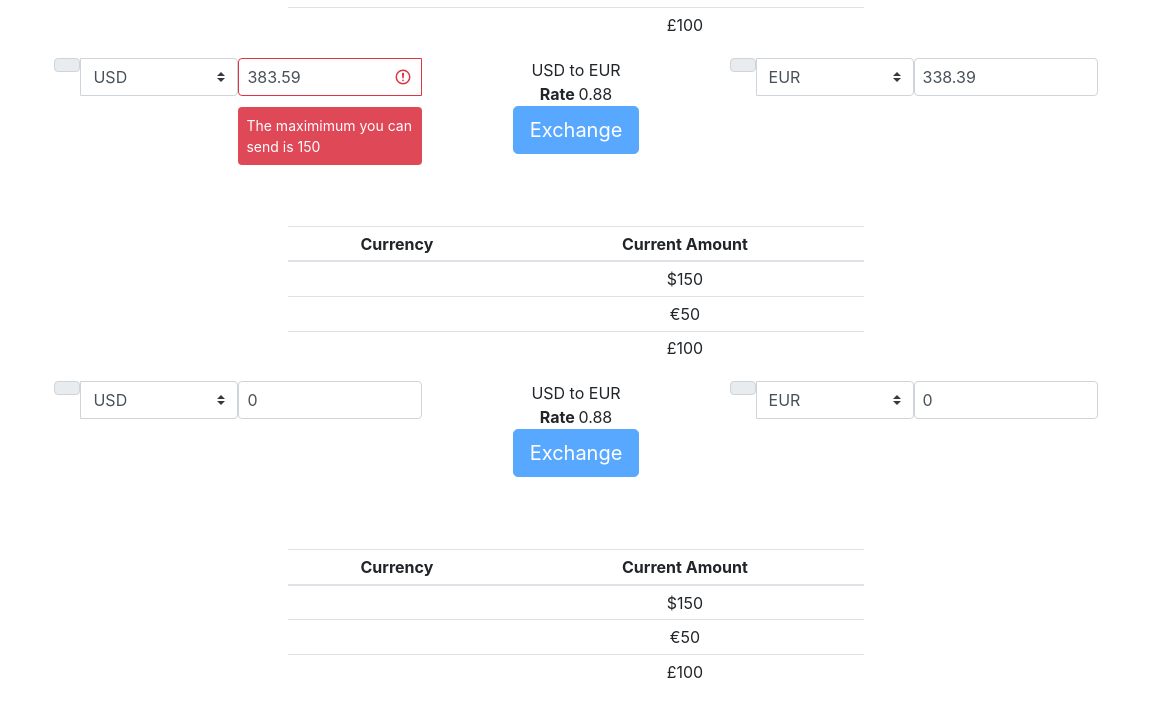
Test: after receiving data › switches currency appropriately
(page scrolled)
Replace the text in the 3rd field with "20" at (330, 400), box 238,381 -> 422,419
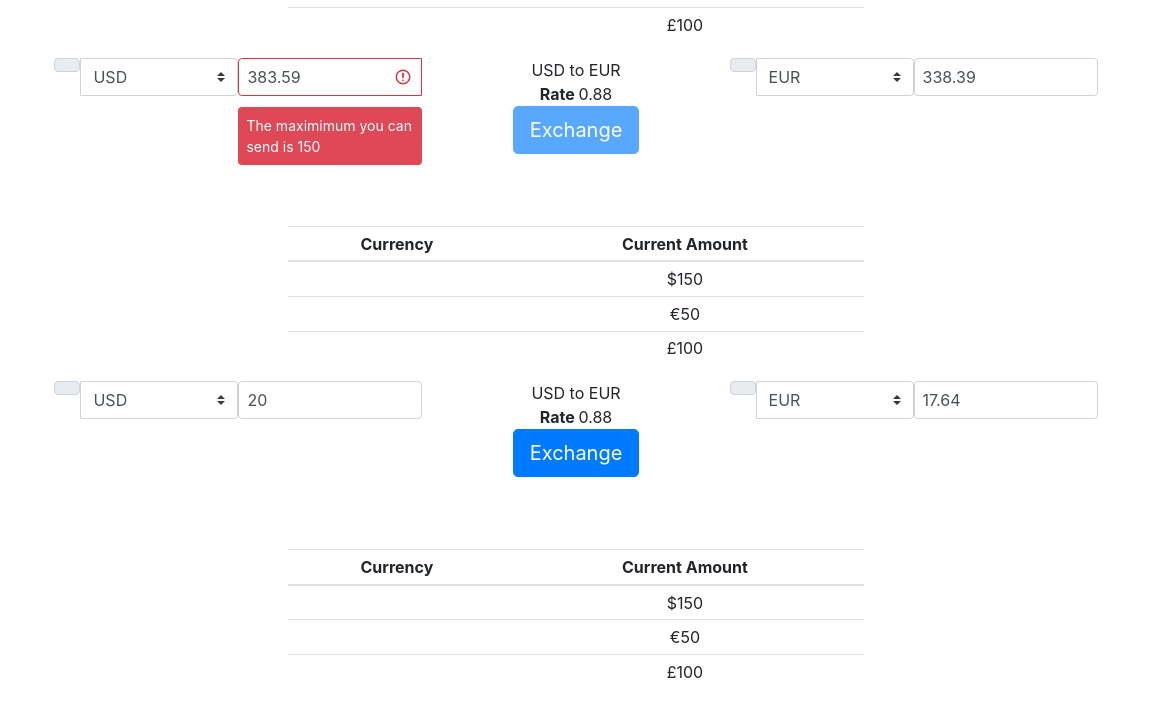
Now the 4th field holds "17.64", box 914,381 -> 1098,419
Select "GBP" in the 3rd dropdown at (160, 400), box 80,381 -> 238,419
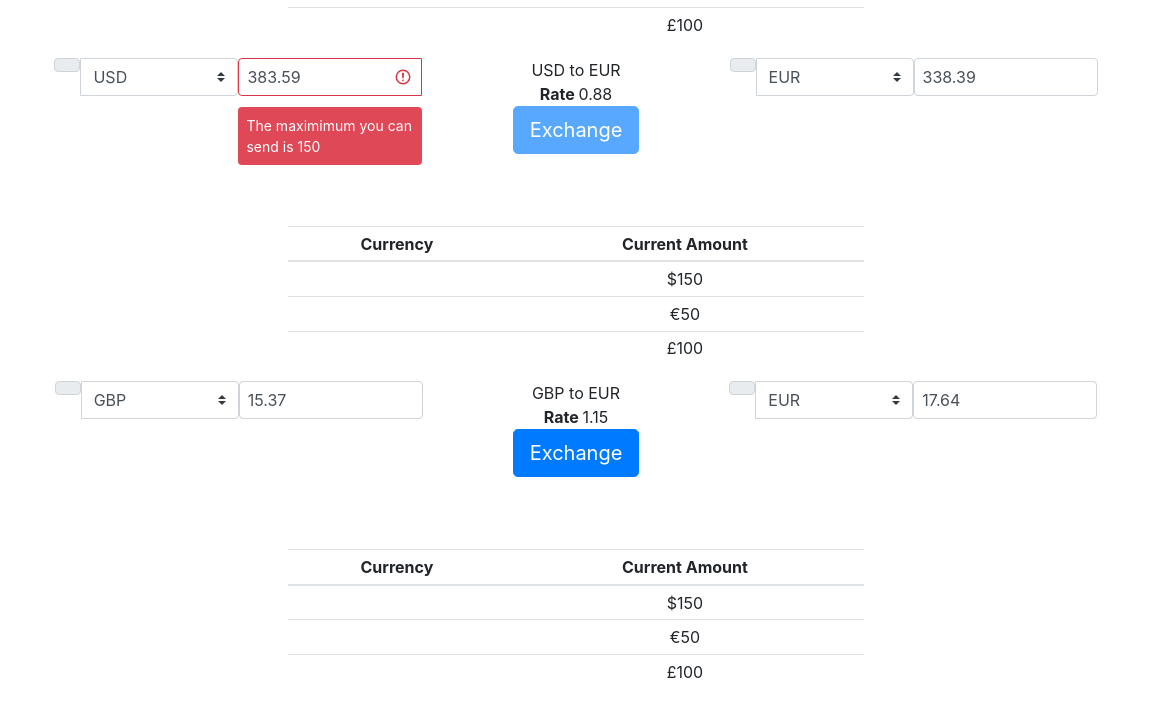
Now the 4th field holds "17.64", box 913,381 -> 1097,419
Now the 3rd field holds "15.37", box 239,381 -> 423,419
